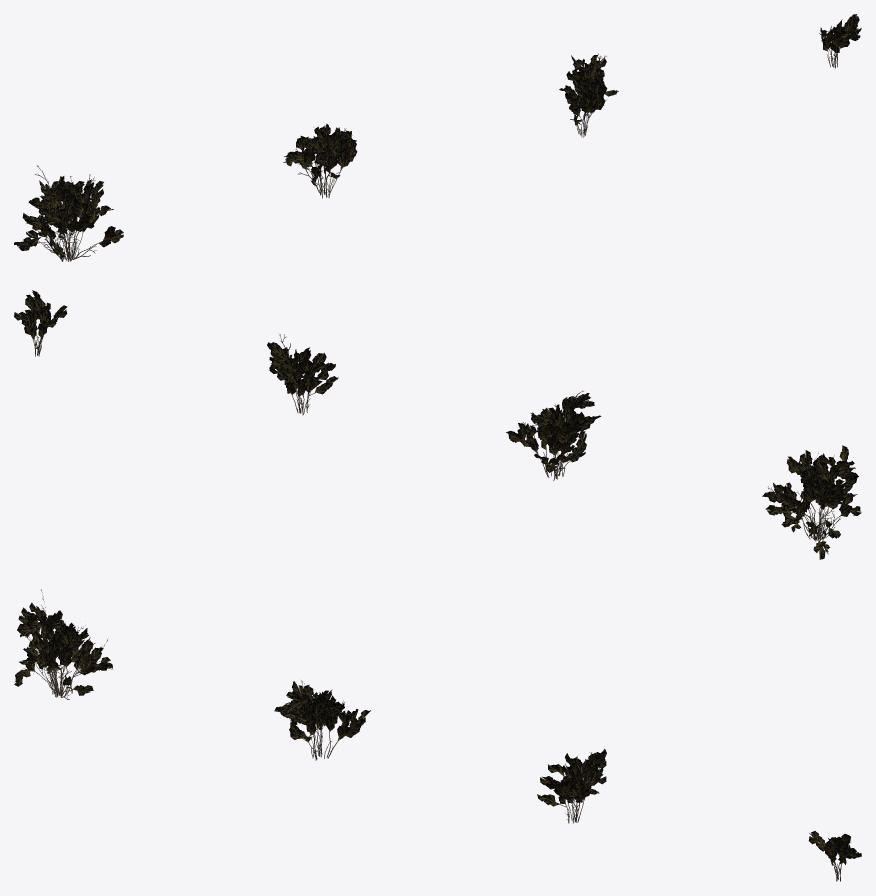
The model's file is shrubs.glb.
3 views of the same model, one above another, from view 1: azimuth 30°, elevation 25°; view 2: azimuth 150°, elevation 25°; view 3: azimuth 330°, elevation 25° (orthographic).
Visible parts, largest first — view 1: shrub_b, shrub_c, shrub_d, shrub_e; view 2: shrub_b, shrub_c, shrub_d, shrub_e; view 3: shrub_b, shrub_c, shrub_d, shrub_e.
Part boxes in pixels (box(x1,y1,x2,y2)): shrub_b: box(14, 165, 123, 261); shrub_c: box(283, 123, 357, 198); shrub_d: box(559, 53, 618, 137); shrub_e: box(819, 14, 861, 68); shrub_b: box(762, 445, 861, 559); shrub_c: box(506, 390, 601, 480); shrub_d: box(267, 334, 338, 414); shrub_e: box(14, 290, 67, 356); shrub_b: box(14, 589, 112, 699); shrub_c: box(274, 680, 370, 760); shrub_d: box(537, 749, 606, 823); shrub_e: box(808, 831, 861, 881).
Bounding box in the file's own units: 4.9 × 0.5413 × 0.4747.
3 materials, 3 textured.
